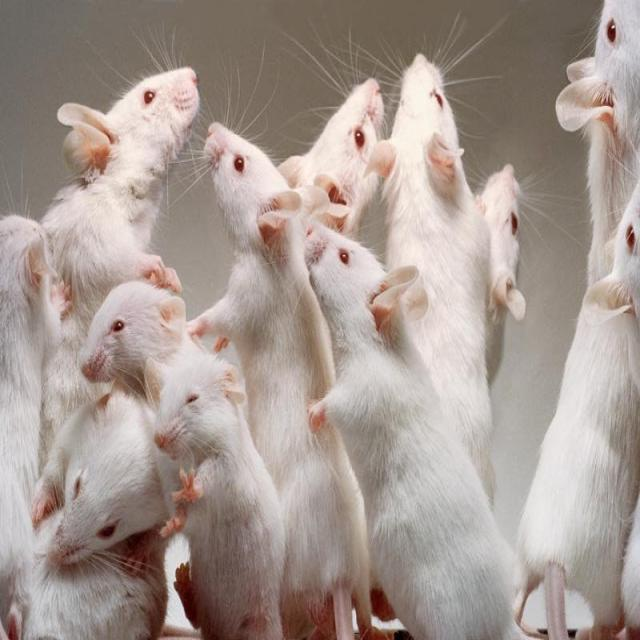Mouse: (300, 212, 514, 640), (206, 119, 379, 640), (46, 60, 204, 278), (34, 391, 176, 563), (74, 277, 198, 391)
